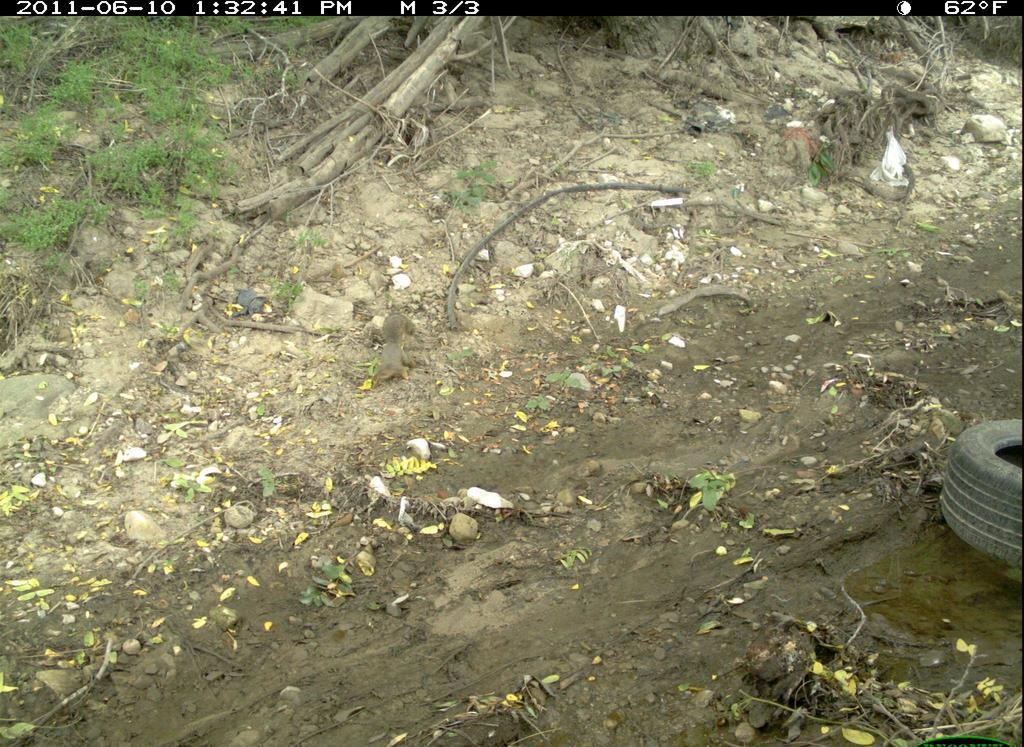squirrel: (365, 312, 424, 392)
